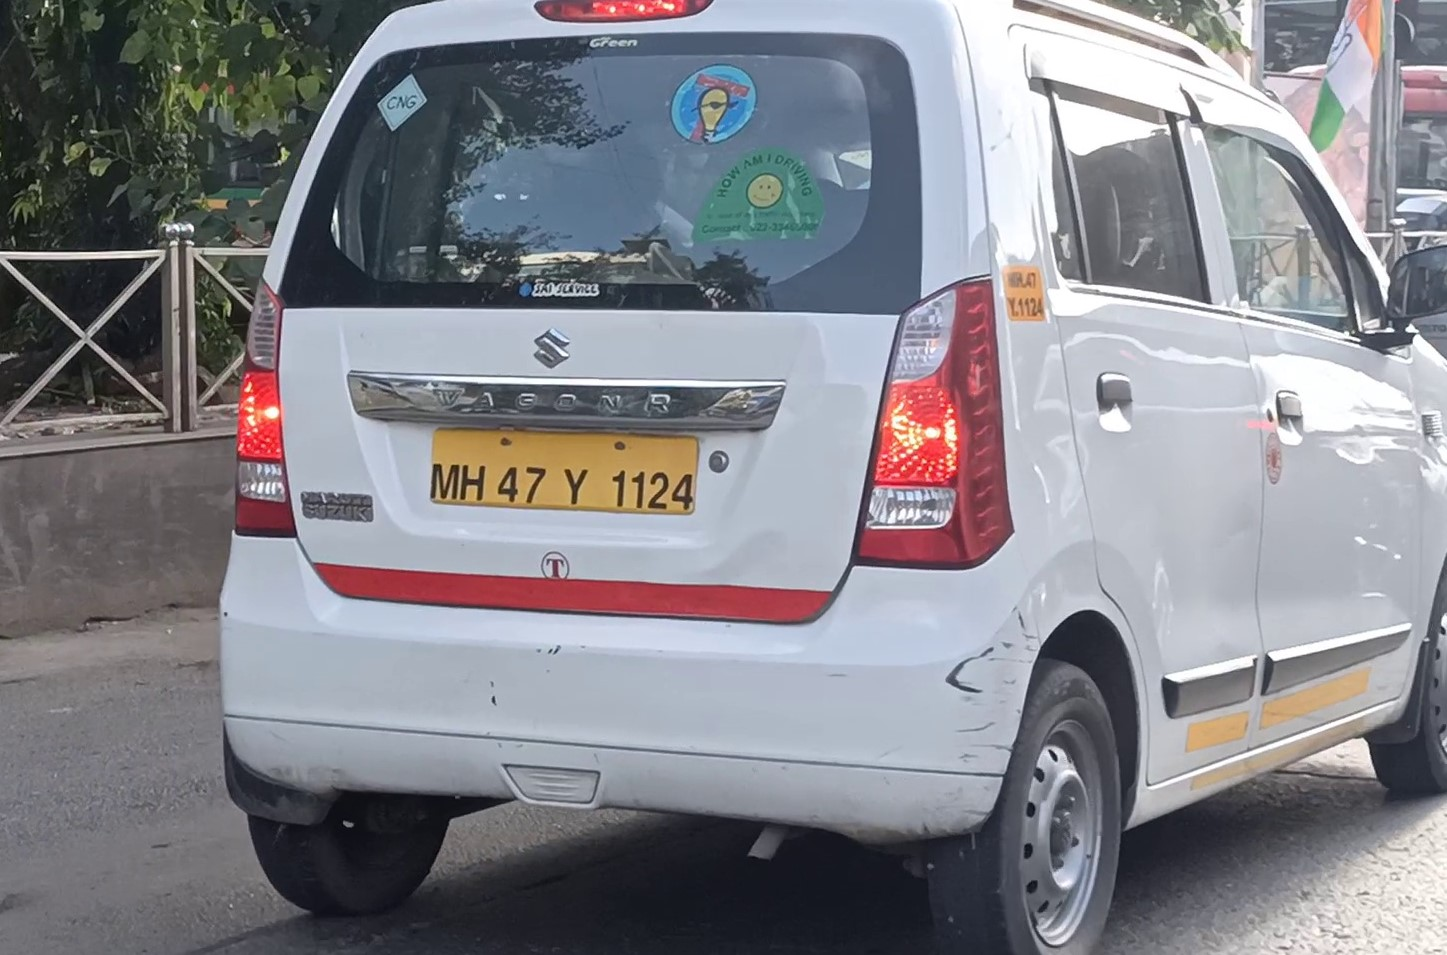MH47Y1124: (430, 425, 697, 513)
